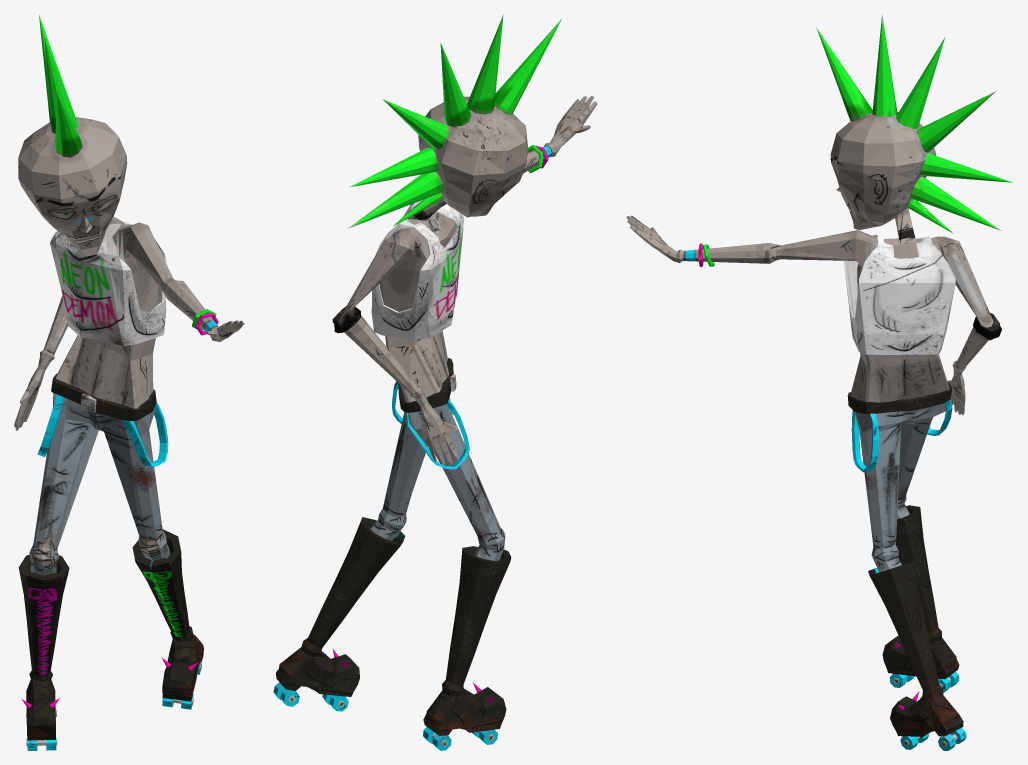
Rendered from punkAnimation_000017.obj.
3 renders of one model, left to right at view 1: azimuth 30°, elevation 25°; view 2: azimuth 150°, elevation 25°; view 3: azimuth 270°, elevation 25°, orthographic. The views are drawn at different scales.
Parts seen in each view (by area): view 1: Cube.004_Cube.003; view 2: Cube.004_Cube.003; view 3: Cube.004_Cube.003.
Boxes of the visible parts, left/top/right/bottom form: Cube.004_Cube.003: left=14, top=15, right=244, bottom=750; Cube.004_Cube.003: left=273, top=14, right=597, bottom=750; Cube.004_Cube.003: left=626, top=14, right=1012, bottom=750.
Bounding box in the file's own units: 2.31 × 7.35 × 3.88.
